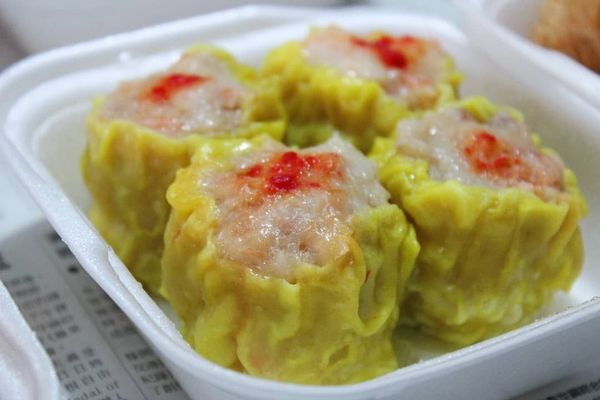sushi: (3, 16, 585, 394)
